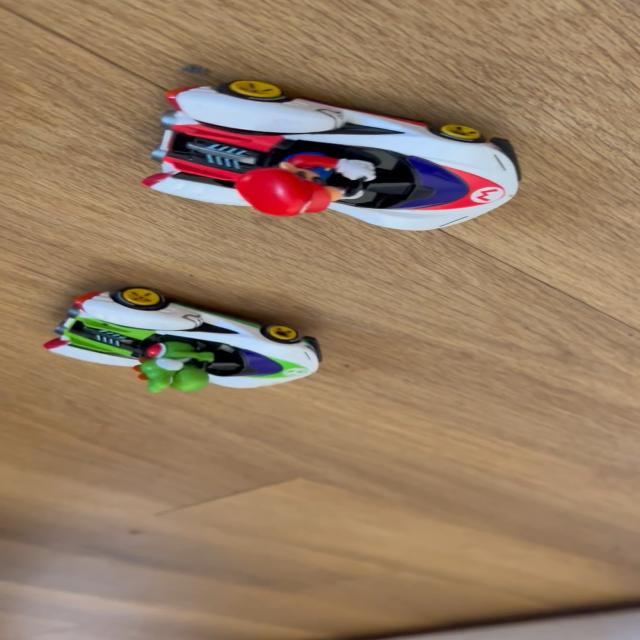mario: (122, 76, 539, 239)
yoshi: (30, 281, 337, 393)
